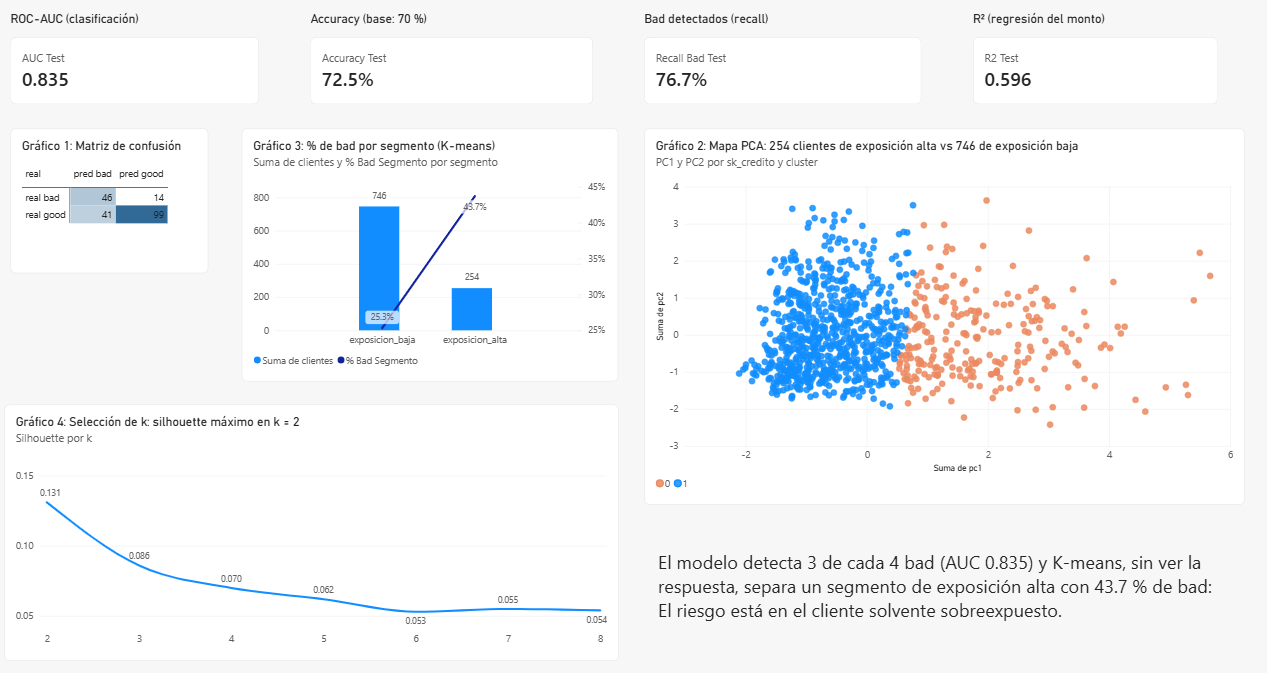

Layout of this report page (visuals, bound fields, positions):
{"tool":"powerbi","page":{"name":"Página 4: Modelos y segmentos.","canvas":[1920,1080],"ordinal":3},"visuals":[{"type":"cardVisual","title":"ROC-AUC (clasificación)","fields":{"Data":["metricas_modelos.AUC Test"]},"box":[55,45,366,136],"z":0},{"type":"cardVisual","title":"Accuracy (base: 70 %)","fields":{"Data":["metricas_modelos.Accuracy Test"]},"box":[496.8,45,416,136],"z":1000},{"type":"cardVisual","title":"Bad detectados (recall)","fields":{"Data":["metricas_modelos.Recall Bad Test"]},"box":[988.7,45,408,136],"z":2000},{"type":"cardVisual","title":"R² (regresión del monto)","fields":{"Data":["metricas_modelos.R2 Test"]},"box":[1472.5,45,360,136],"z":3000},{"type":"pivotTable","title":"Gráfico 1: Matriz de confusión","fields":{"Columns":["matriz_confusion.prediccion"],"Rows":["matriz_confusion.real"],"Values":["Sum(matriz_confusion.creditos)"]},"box":[54.5,215.9,290.9,213.6],"z":4000},{"type":"scatterChart","title":"Gráfico 2: Mapa PCA: 254 clientes de exposición alta vs 746 de exposición baja","fields":{"Category":["pca_coordenadas.sk_credito"],"Series":["pca_coordenadas.cluster"],"X":["Sum(pca_coordenadas.pc1)"],"Y":["Sum(pca_coordenadas.pc2)"]},"box":[988.6,215.9,884.1,554.5],"z":5000},{"type":"lineClusteredColumnComboChart","title":"Gráfico 3: % de bad por segmento (K-means)","fields":{"Category":["segmentos.segmento"],"Y":["Sum(segmentos.clientes)"],"Y2":["segmentos.% Bad Segmento"]},"box":[395.5,215.9,554.5,372.7],"z":5001},{"type":"lineChart","title":"Gráfico 4: Selección de k: silhouette máximo en k = 2","fields":{"Category":["seleccion_k.k"],"Y":["Sum(seleccion_k.silhouette)"]},"box":[45.5,622.7,904.5,377.3],"z":5002},{"type":"textbox","box":[1009.1,836.4,840.9,188.6],"z":5003}]}

Visuals, with their boxes on the page's 1920x1080 design canvas (x1, y1, x2, y2). These are canvas units, not pixel positions in the 1267x673 screenshot, which may show the page scaled, cropped or inside an application window:
"ROC-AUC (clasificación)" cardVisual: <region>55, 45, 421, 181</region>
"Accuracy (base: 70 %)" cardVisual: <region>497, 45, 913, 181</region>
"Bad detectados (recall)" cardVisual: <region>989, 45, 1397, 181</region>
"R² (regresión del monto)" cardVisual: <region>1472, 45, 1832, 181</region>
"Gráfico 1: Matriz de confusión" pivotTable: <region>54, 216, 345, 430</region>
"Gráfico 2: Mapa PCA: 254 clientes de exposición alta vs 746 de exposición baja" scatterChart: <region>989, 216, 1873, 770</region>
"Gráfico 3: % de bad por segmento (K-means)" lineClusteredColumnComboChart: <region>396, 216, 950, 589</region>
"Gráfico 4: Selección de k: silhouette máximo en k = 2" lineChart: <region>46, 623, 950, 1000</region>
textbox: <region>1009, 836, 1850, 1025</region>
